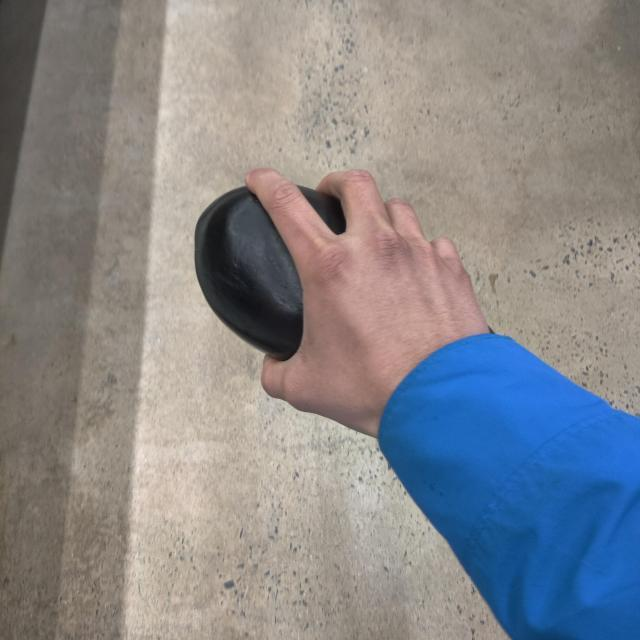Eggplant: (167, 160, 447, 402)
